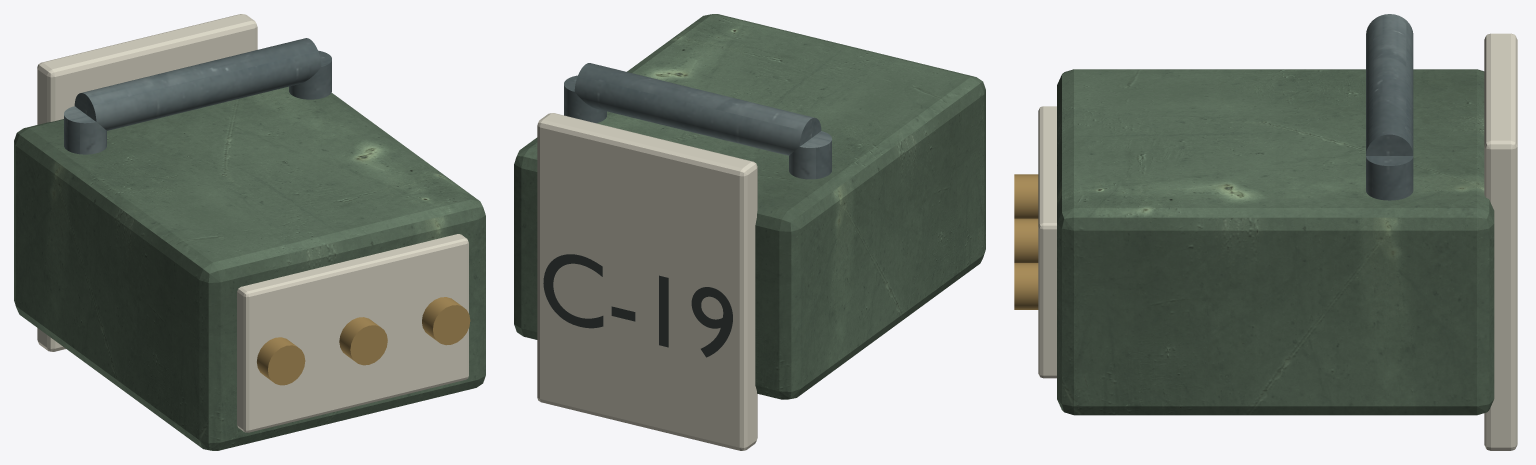
The model's file is limiter_cassette.glb.
The picture shows the model from 3 angles, left to right: view 1: azimuth 30°, elevation 25°; view 2: azimuth 150°, elevation 25°; view 3: azimuth 270°, elevation 25°; orthographic projection. The views are drawn at different scales.
Visible parts, largest first — view 1: limiter_cassette / containment_sage_enamel, limiter_cassette / power_instrument_ivory, limiter_cassette / containment_worn_steel, limiter_cassette / containment_aged_brass; view 2: limiter_cassette / containment_sage_enamel, limiter_cassette / power_instrument_ivory, limiter_cassette / containment_worn_steel, limiter_cassette / power_blackened_steel; view 3: limiter_cassette / containment_sage_enamel, limiter_cassette / power_instrument_ivory, limiter_cassette / containment_worn_steel, limiter_cassette / containment_aged_brass.
Part boxes in pixels (bbox=[...]): limiter_cassette / containment_sage_enamel: bbox=[14, 86, 485, 450]; limiter_cassette / power_instrument_ivory: bbox=[37, 14, 468, 432]; limiter_cassette / containment_worn_steel: bbox=[64, 38, 331, 154]; limiter_cassette / containment_aged_brass: bbox=[257, 297, 470, 385]; limiter_cassette / containment_sage_enamel: bbox=[514, 14, 985, 399]; limiter_cassette / power_instrument_ivory: bbox=[537, 113, 757, 450]; limiter_cassette / containment_worn_steel: bbox=[564, 63, 831, 179]; limiter_cassette / power_blackened_steel: bbox=[543, 254, 732, 357]; limiter_cassette / containment_sage_enamel: bbox=[1057, 69, 1494, 415]; limiter_cassette / power_instrument_ivory: bbox=[1038, 33, 1517, 450]; limiter_cassette / containment_worn_steel: bbox=[1366, 14, 1413, 200]; limiter_cassette / containment_aged_brass: bbox=[1014, 174, 1038, 309].
Size of the model in its own units: 0.38 by 0.375 by 0.534.
5 materials, 2 textured.
